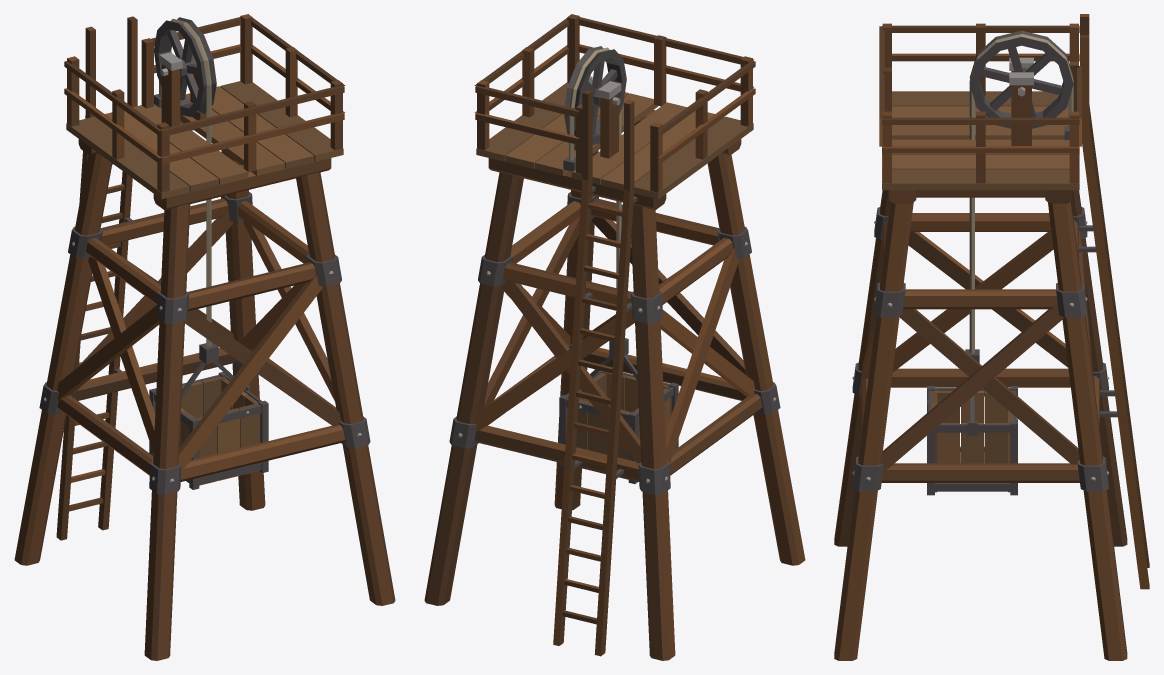
The model's file is mine-headframe-de1ad0.glb.
3 views of the same model, side by side, from view 1: azimuth 30°, elevation 25°; view 2: azimuth 150°, elevation 25°; view 3: azimuth 270°, elevation 25° (orthographic). The views are drawn at different scales.
Parts seen in each view (by area): view 1: frame-matte, frame-metal, bucket-matte, pulley-metal, bucket-metal, rope-matte; view 2: frame-matte, frame-metal, pulley-metal, bucket-matte, bucket-metal, rope-matte; view 3: frame-matte, frame-metal, pulley-metal, bucket-matte, bucket-metal, rope-matte.
Part boxes in pixels (x1,y1,x2,y2): frame-matte: [14, 14, 395, 660]; frame-metal: [39, 52, 370, 494]; bucket-matte: [179, 376, 260, 485]; pulley-metal: [154, 17, 216, 116]; bucket-metal: [149, 361, 268, 489]; rope-matte: [159, 19, 211, 346]; frame-matte: [424, 14, 805, 660]; frame-metal: [449, 76, 780, 494]; pulley-metal: [564, 46, 626, 144]; bucket-matte: [567, 371, 671, 479]; bucket-metal: [559, 355, 678, 483]; rope-matte: [569, 47, 621, 288]; frame-matte: [834, 14, 1149, 660]; frame-metal: [852, 57, 1117, 491]; pulley-metal: [969, 30, 1073, 128]; bucket-matte: [931, 389, 1013, 492]; bucket-metal: [927, 386, 1017, 495]; rope-matte: [969, 34, 1073, 353].
Size of the model in its own units: 2.82 by 6 by 3.03.
